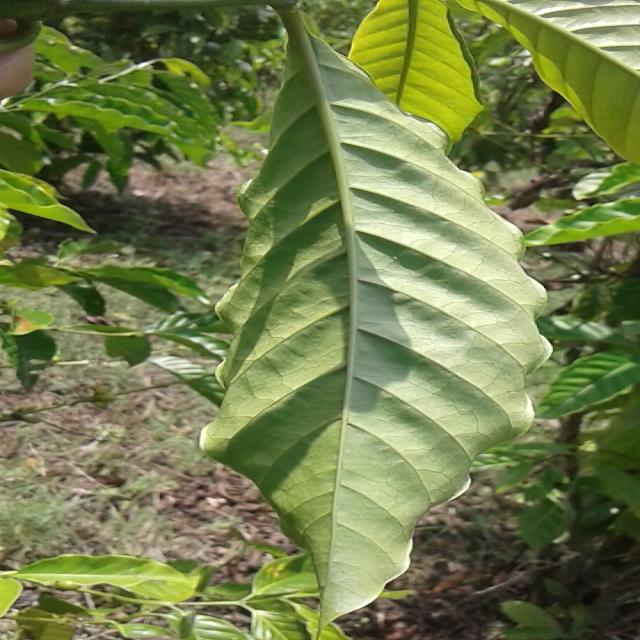Sanas: (199, 3, 554, 627)
